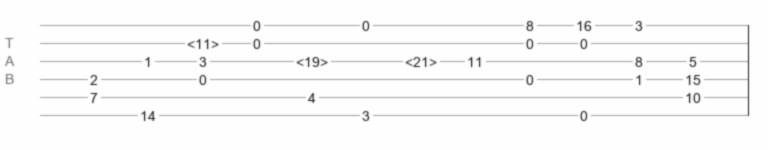0: (199, 72, 207, 82), (253, 18, 261, 28), (253, 36, 261, 46), (362, 18, 370, 28), (526, 36, 534, 46), (526, 72, 534, 82), (580, 108, 588, 118), (580, 36, 588, 46)
1: (144, 54, 152, 64), (635, 72, 643, 82)
10: (685, 90, 701, 100)
11: (467, 54, 483, 64)
14: (140, 108, 156, 118)
15: (685, 72, 701, 82)
16: (576, 18, 592, 28)
2: (90, 72, 98, 82)
3: (199, 54, 207, 64), (362, 108, 370, 118), (635, 18, 643, 28)
4: (308, 90, 316, 100)
5: (689, 54, 697, 64)
7: (90, 90, 98, 100)
8: (526, 18, 534, 28), (635, 54, 643, 64)
harmonic: (187, 36, 219, 46), (296, 54, 328, 64), (405, 54, 437, 64)
